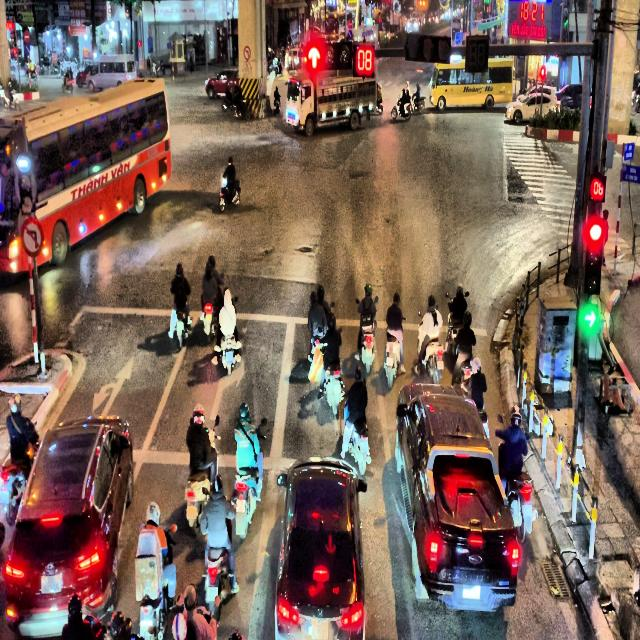lisence_plate: (302, 612, 338, 639), (38, 576, 68, 596), (460, 582, 484, 602), (310, 616, 330, 639)
